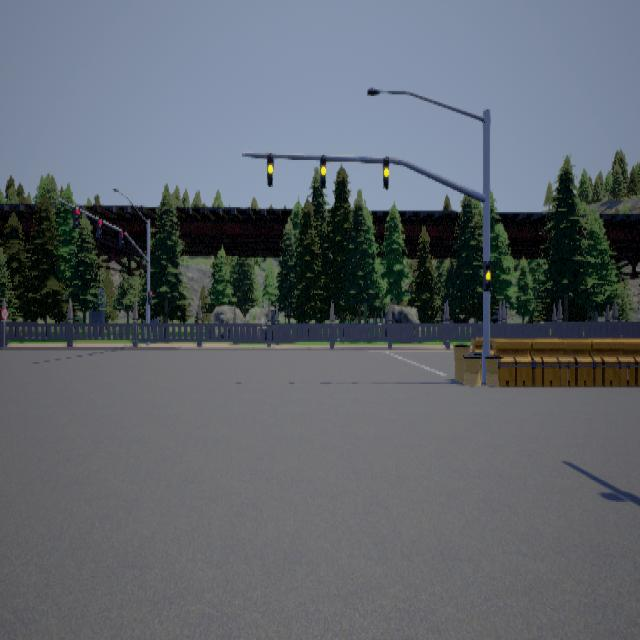red_light: (72, 205, 79, 228), (95, 218, 102, 238), (118, 229, 124, 246), (147, 290, 152, 303)
traffic_sign: (0, 306, 8, 318)
yellow_light: (482, 259, 490, 290), (266, 152, 273, 185), (382, 155, 388, 189), (319, 153, 325, 187)
